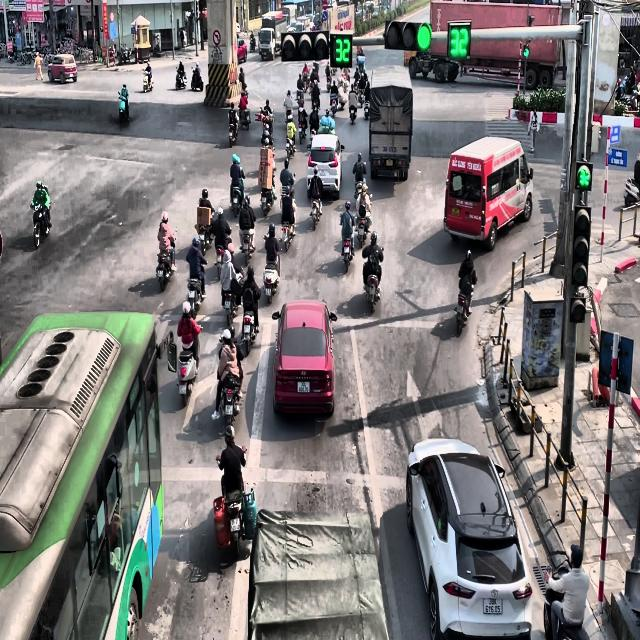lisence_plate: (482, 596, 503, 615), (296, 380, 310, 393), (452, 207, 461, 216), (386, 160, 393, 167), (319, 170, 326, 176)
